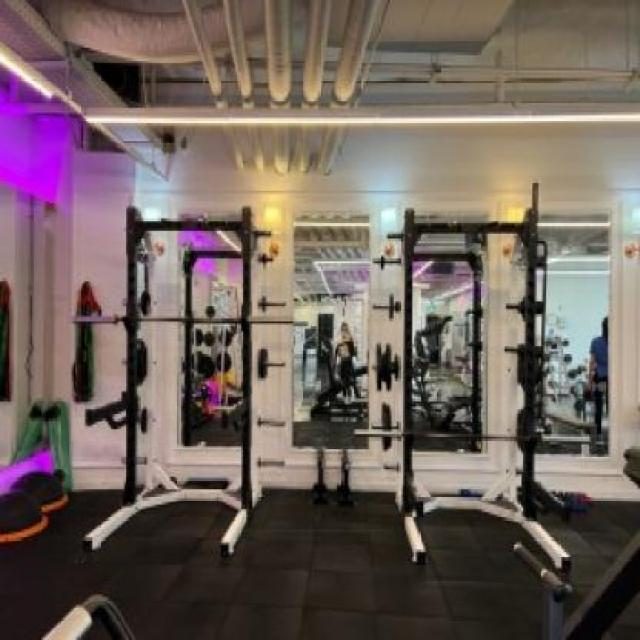smith machine: (370, 208, 578, 575), (89, 205, 286, 560)
